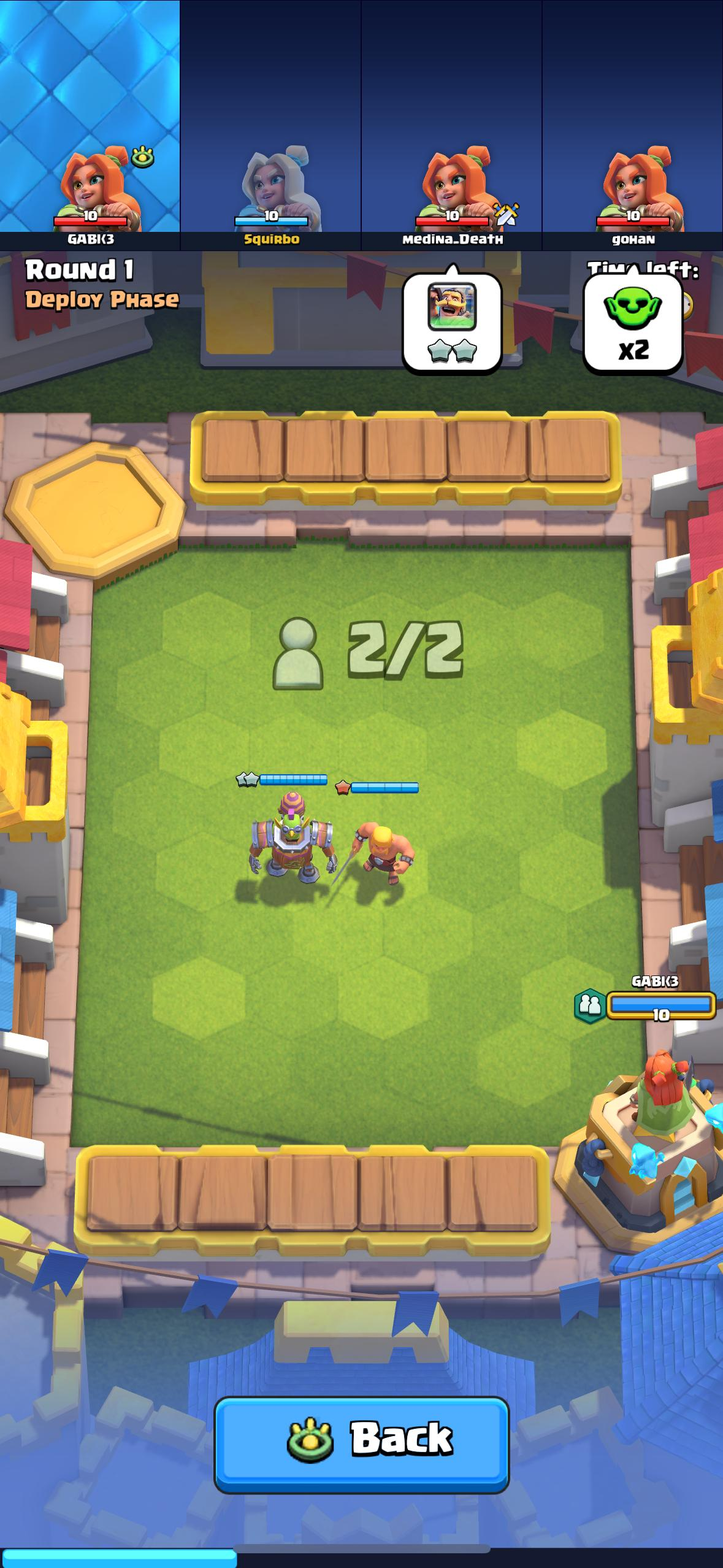barbarian: (342, 808, 415, 884)
machine: (244, 779, 335, 887)
